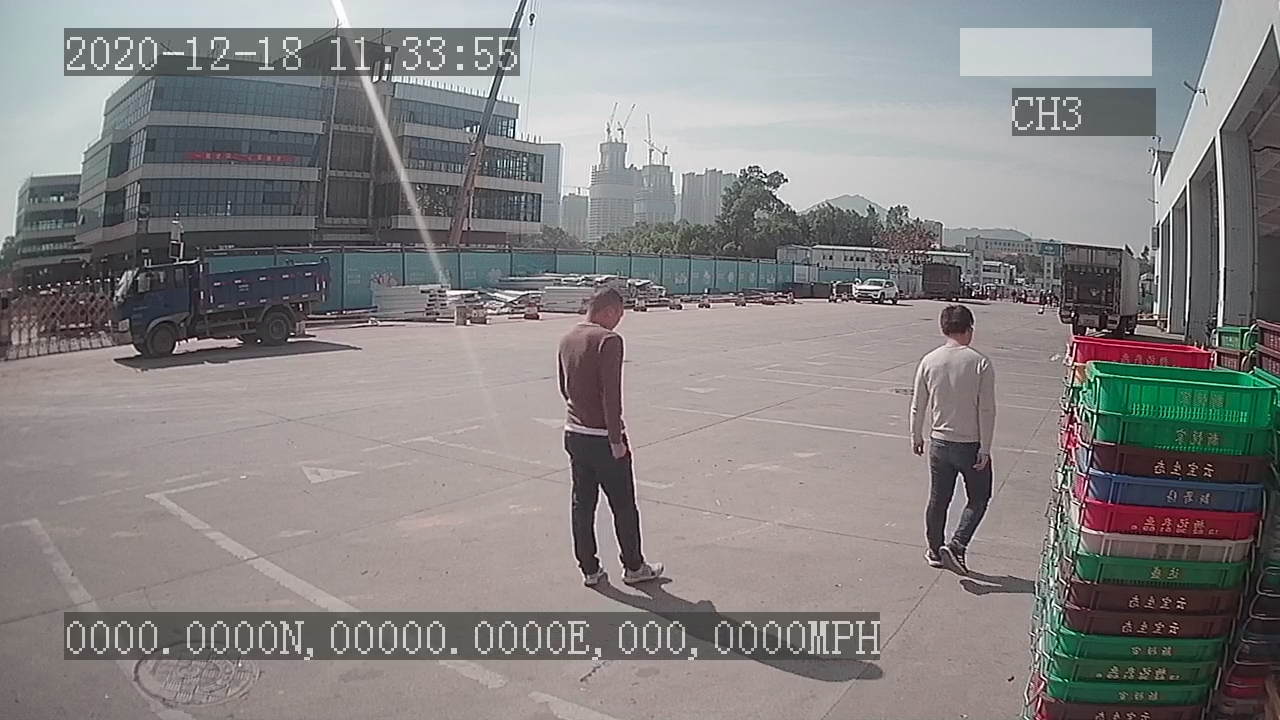person: (547, 284, 668, 583), (902, 302, 1002, 574)
